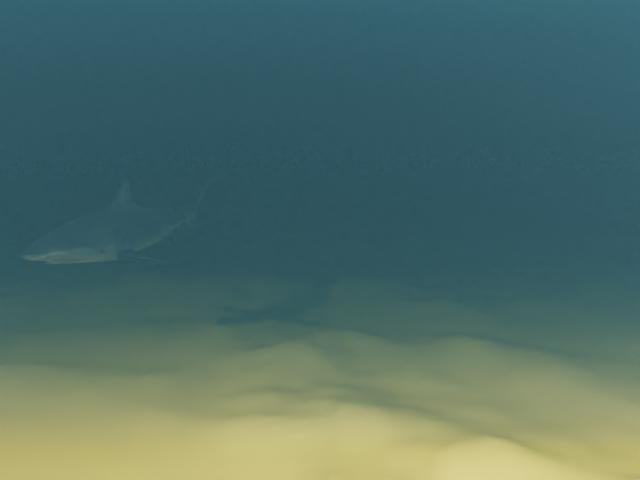Carribean Shark.001: (21, 167, 227, 267)
